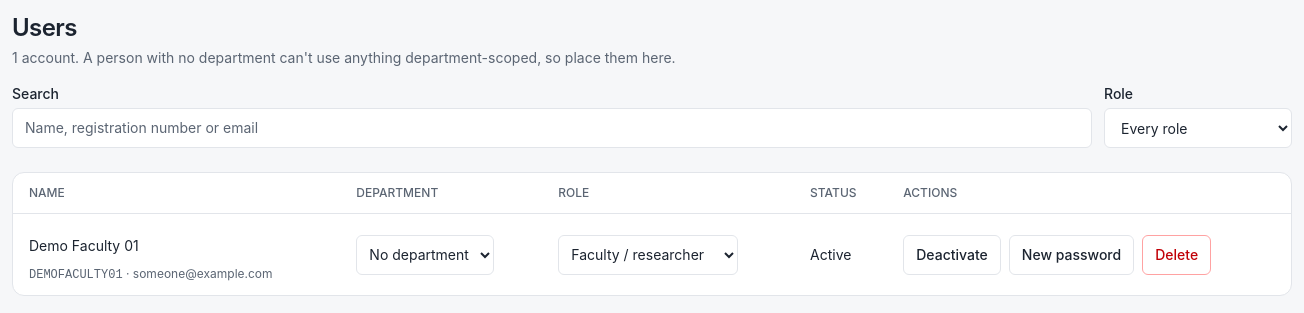
Test: searching the account list › says so when nothing matches
This screenshot has width=1304, height=313.
Expected: the button "Demo Faculty 01" is shown, [29, 226, 139, 266]
Type "zzzz" into the search field labelled "Search" at [552, 128], box [12, 108, 1092, 148]
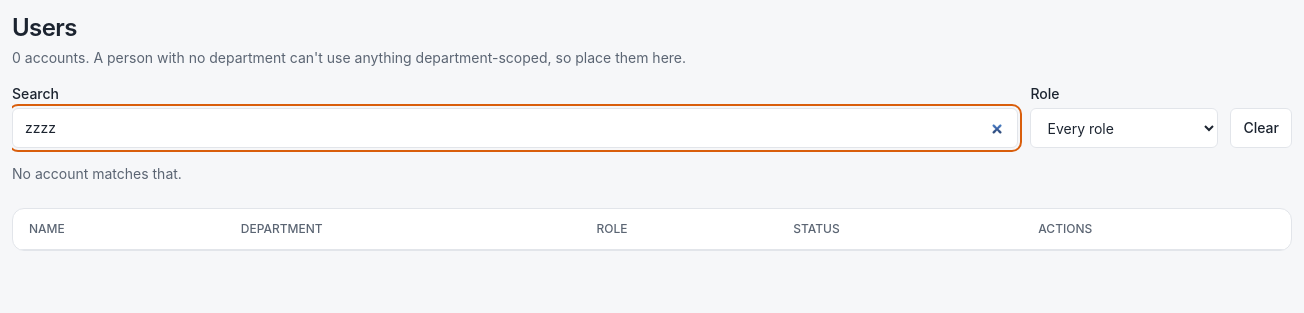
Result: the text "No account matches that." is shown at [12, 165, 182, 182]
